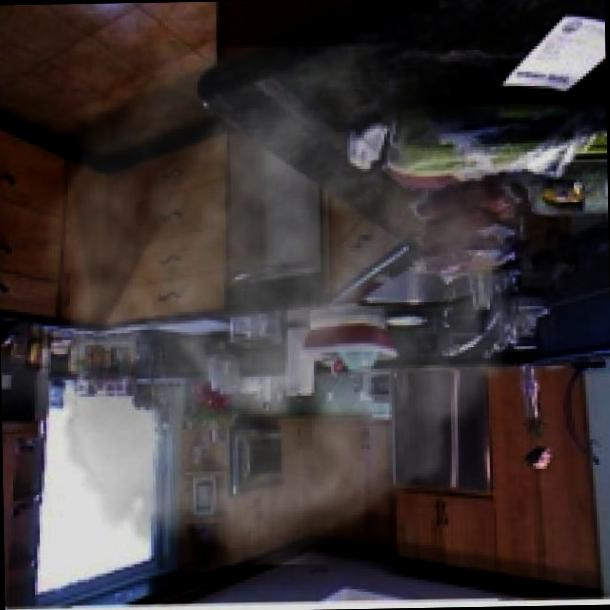smoke: (0, 40, 562, 569)
